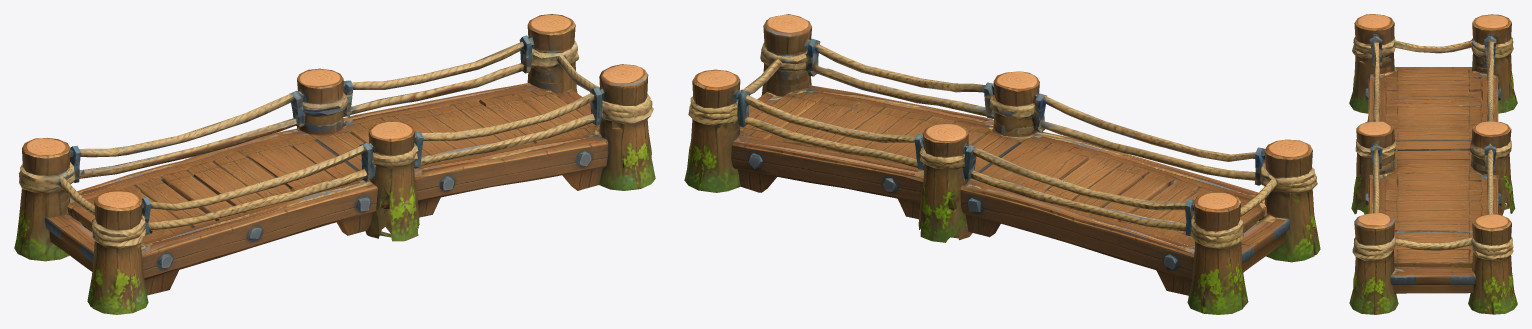
The model's file is bridge.glb.
3 views of the same model, side by side, from view 1: azimuth 30°, elevation 25°; view 2: azimuth 150°, elevation 25°; view 3: azimuth 270°, elevation 25° (orthographic). The views are drawn at different scales.
Visible parts, largest first — view 1: Body; view 2: Body; view 3: Body.
Part boxes in pixels (x1,y1,x2,y2): Body: (14,14,655,314); Body: (684,14,1320,314); Body: (1349,14,1517,314).
Size of the model in its own units: 8 by 1.48 by 2.57.
Materials: 1 (1 with a texture image).
